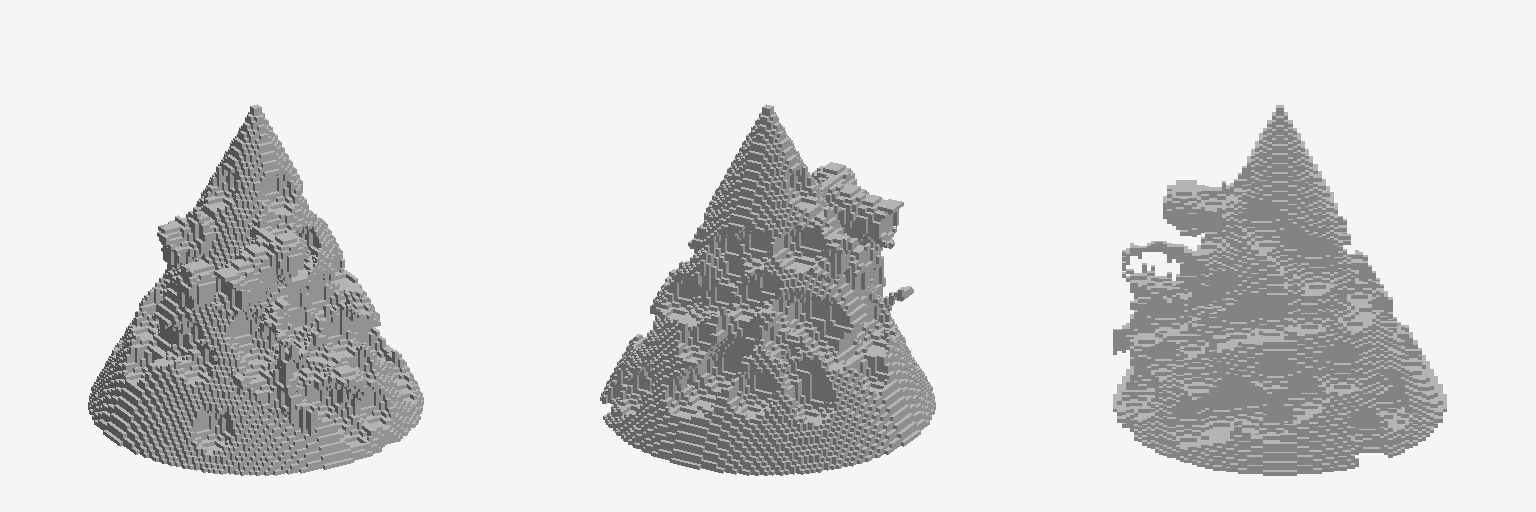
The model's file is mountain2.obj.
3 renders of one model, left to right at view 1: azimuth 30°, elevation 25°; view 2: azimuth 150°, elevation 25°; view 3: azimuth 270°, elevation 25°, orthographic.
Parts seen in each view (by area): view 1: object 1; view 2: object 1; view 3: object 1.
Part boxes in pixels (bbox=[...]): object 1: bbox=[88, 104, 423, 475]; object 1: bbox=[600, 104, 935, 475]; object 1: bbox=[1113, 105, 1446, 475].
Size of the model in its own units: 8 by 7.9 by 8.